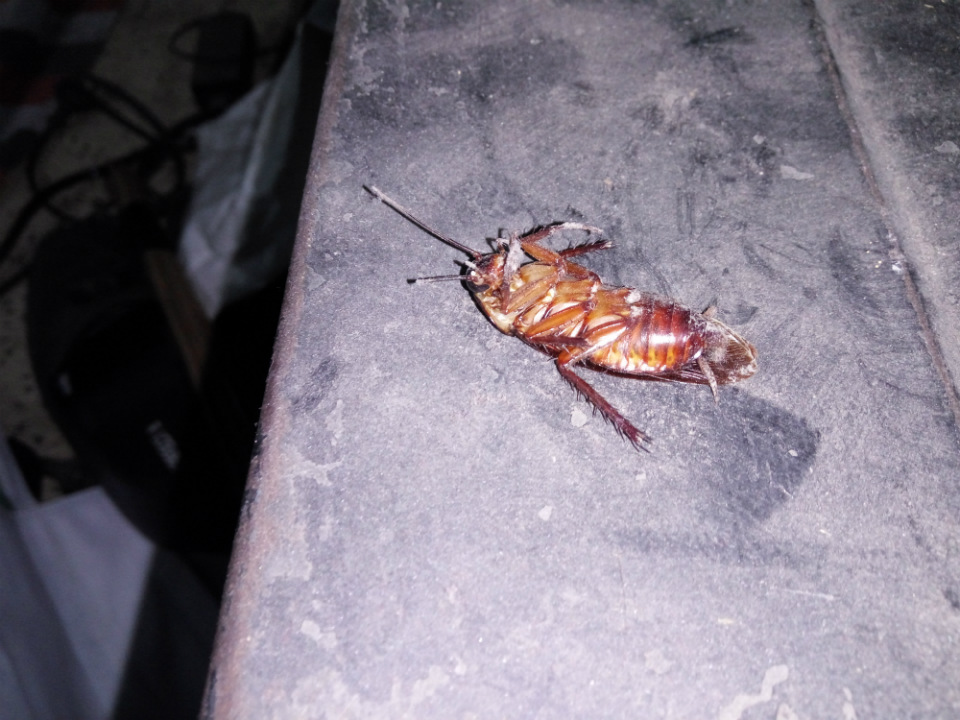cockroach: (290, 144, 804, 458)
